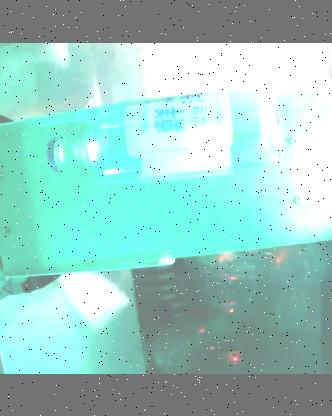Others: (47, 87, 282, 181)
